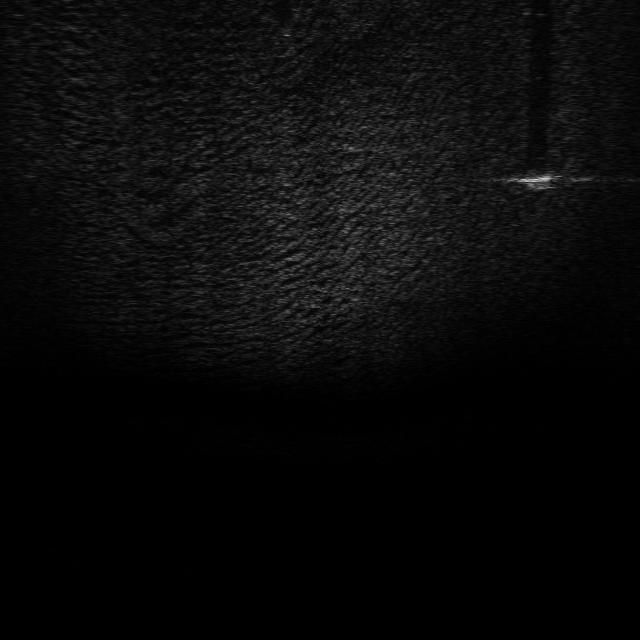cube: (518, 167, 556, 191)
